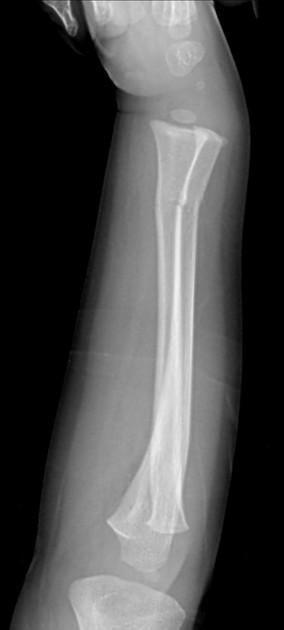fractured: (161, 191, 188, 214)
